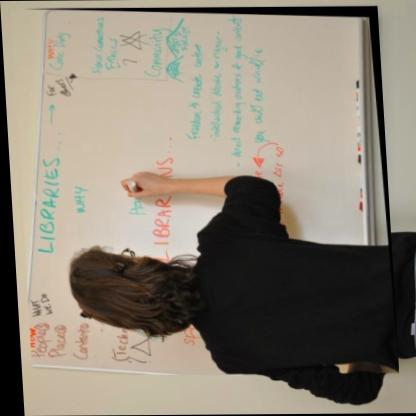Handwritten text: (175, 15, 280, 161), (135, 156, 180, 264), (21, 290, 85, 361), (30, 150, 65, 262), (85, 14, 123, 74), (134, 24, 175, 79), (39, 27, 73, 73), (43, 71, 80, 101), (64, 181, 89, 219)
Lecturer: (52, 169, 391, 366)
Whiteboard: (18, 7, 378, 376)
